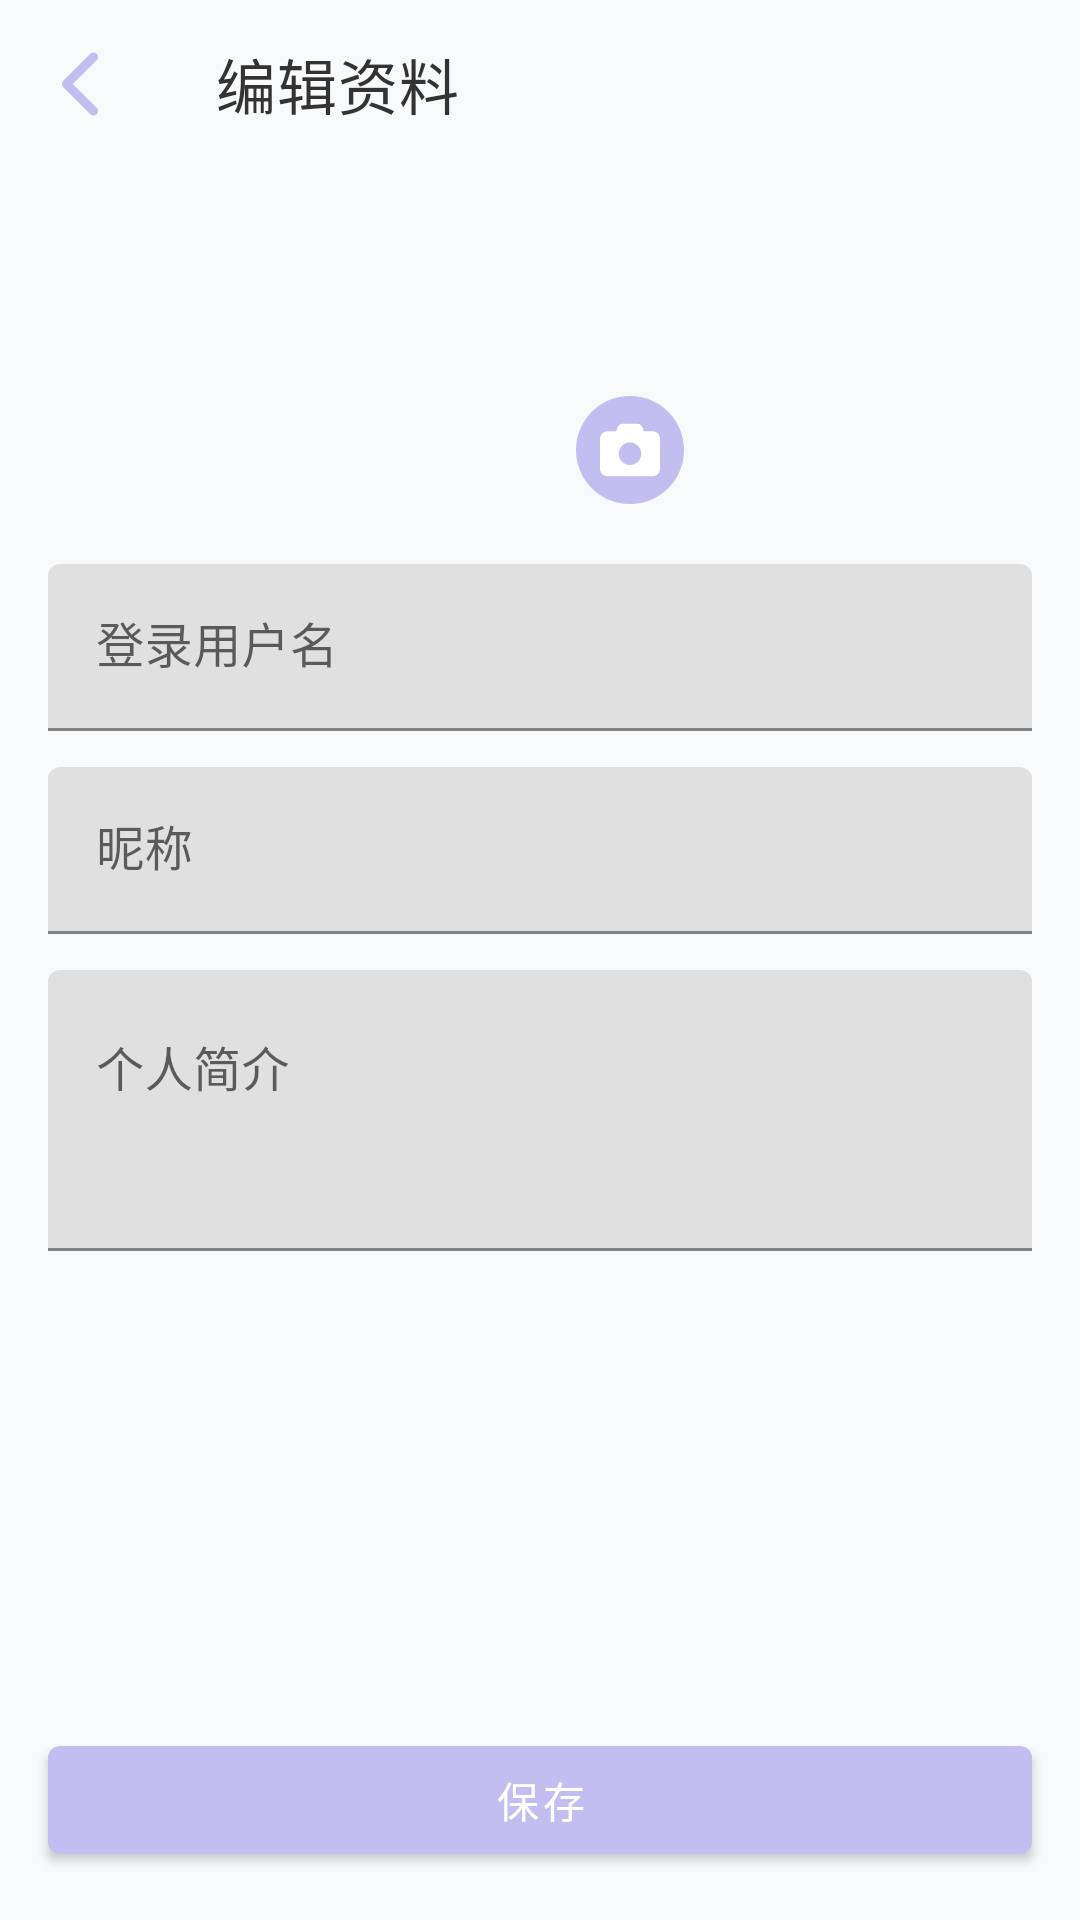

Locate icon controls on the screen. Image size 1080×1920, boxes as bbox=(x1, y1, x2, y2).
编辑头像: bbox=(576, 396, 684, 504)
